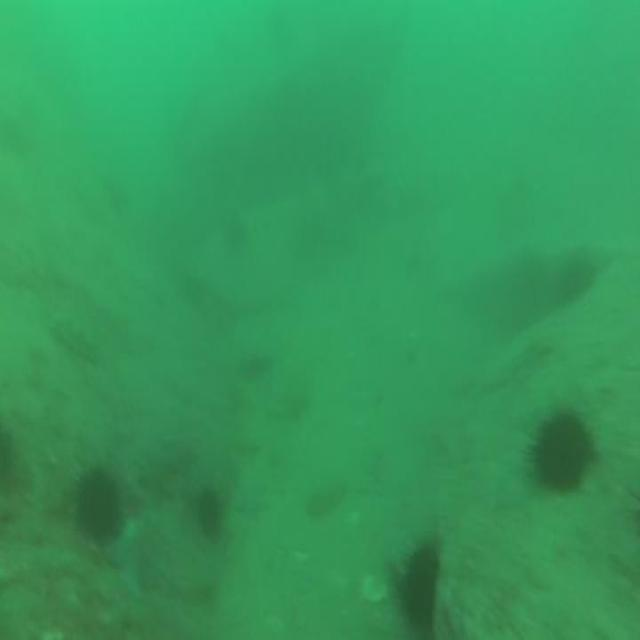echinus: (522, 400, 598, 499), (392, 535, 439, 640), (72, 464, 124, 548), (194, 480, 226, 546), (559, 256, 596, 303), (217, 202, 249, 255)
holothurian: (46, 305, 108, 370)
